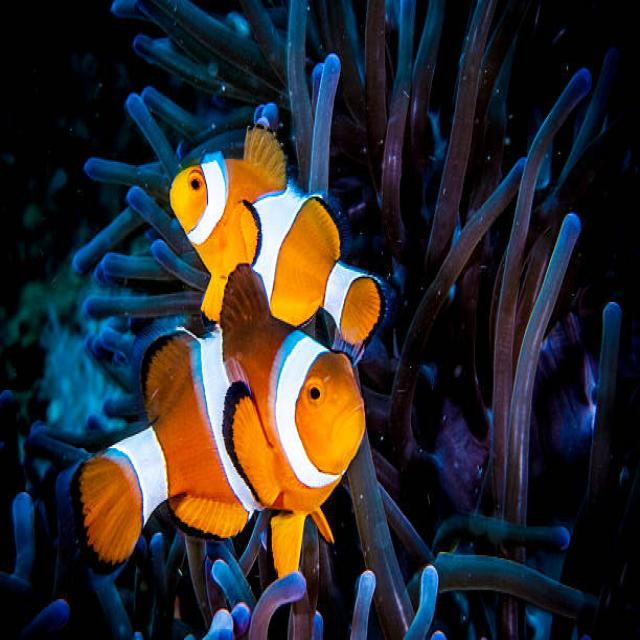ClownFish: (69, 267, 366, 577), (170, 116, 387, 344)
